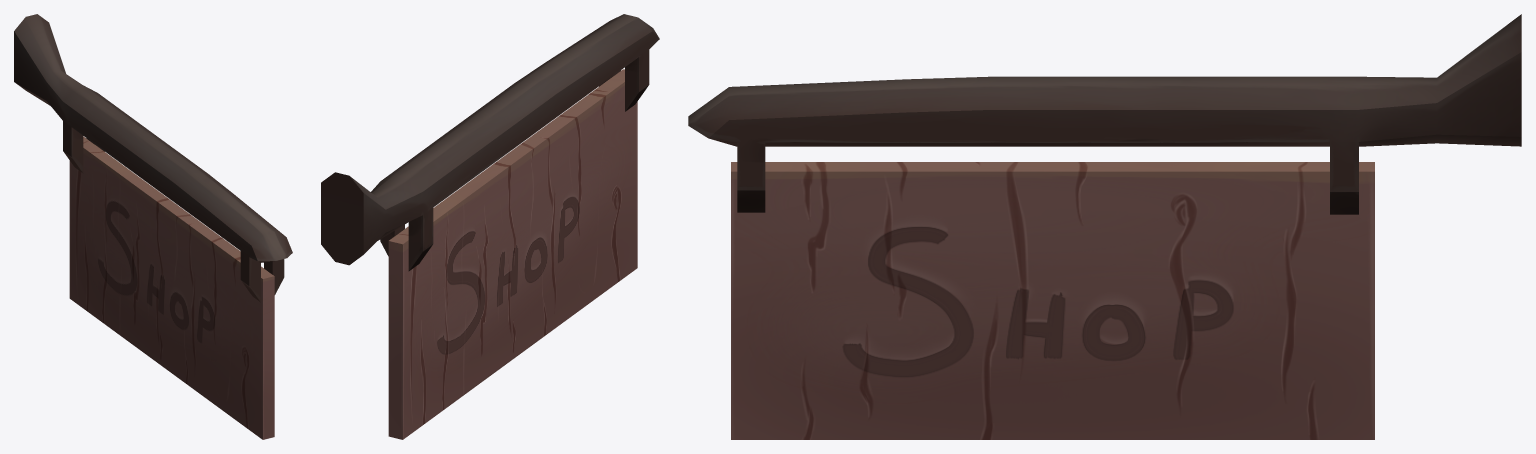
Rendered from uithangbord.FBX.
The picture shows the model from 3 angles, left to right: view 1: azimuth 30°, elevation 25°; view 2: azimuth 150°, elevation 25°; view 3: azimuth 270°, elevation 25°; orthographic projection. The views are drawn at different scales.
Visible parts, largest first — view 1: Box001; view 2: Box001; view 3: Box001.
Part boxes in pixels (x1,y1,x2,y2): Box001: [14, 14, 292, 439]; Box001: [321, 14, 659, 439]; Box001: [688, 14, 1521, 439].
Bounding box in the file's own units: 5.88 × 40.07 × 72.69.
